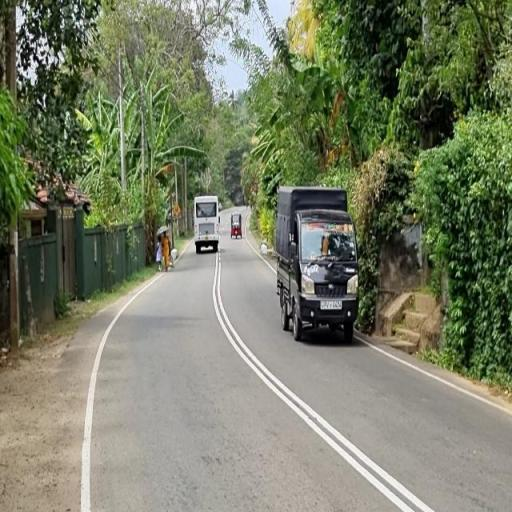double_white_line: (210, 253, 433, 512)
